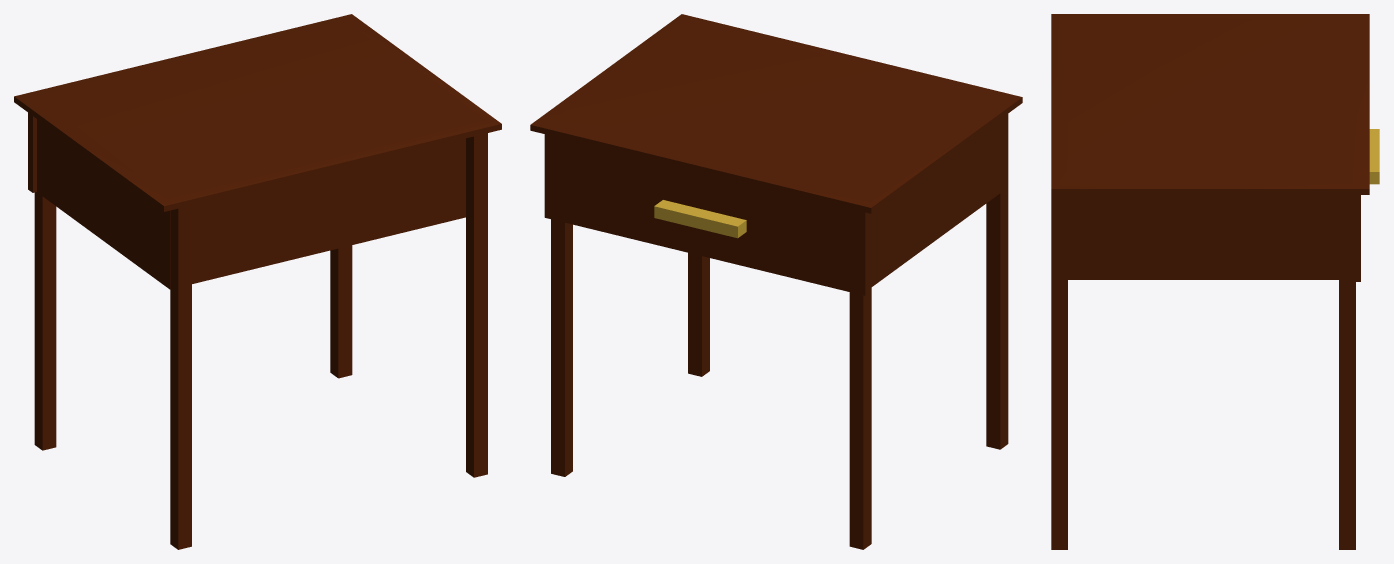
File: Blockout_SideTable_01.fbx
The picture shows the model from 3 angles, left to right: view 1: azimuth 30°, elevation 25°; view 2: azimuth 150°, elevation 25°; view 3: azimuth 270°, elevation 25°; orthographic projection. The views are drawn at different scales.
Visible parts, largest first — view 1: pCube6; view 2: pCube6; view 3: pCube6.
Part boxes in pixels (x1,y1,x2,y2): pCube6: (14, 14, 501, 549); pCube6: (530, 14, 1022, 549); pCube6: (1051, 14, 1379, 549).
Bounding box in the file's own units: 61.1 × 60.4 × 48.5.
